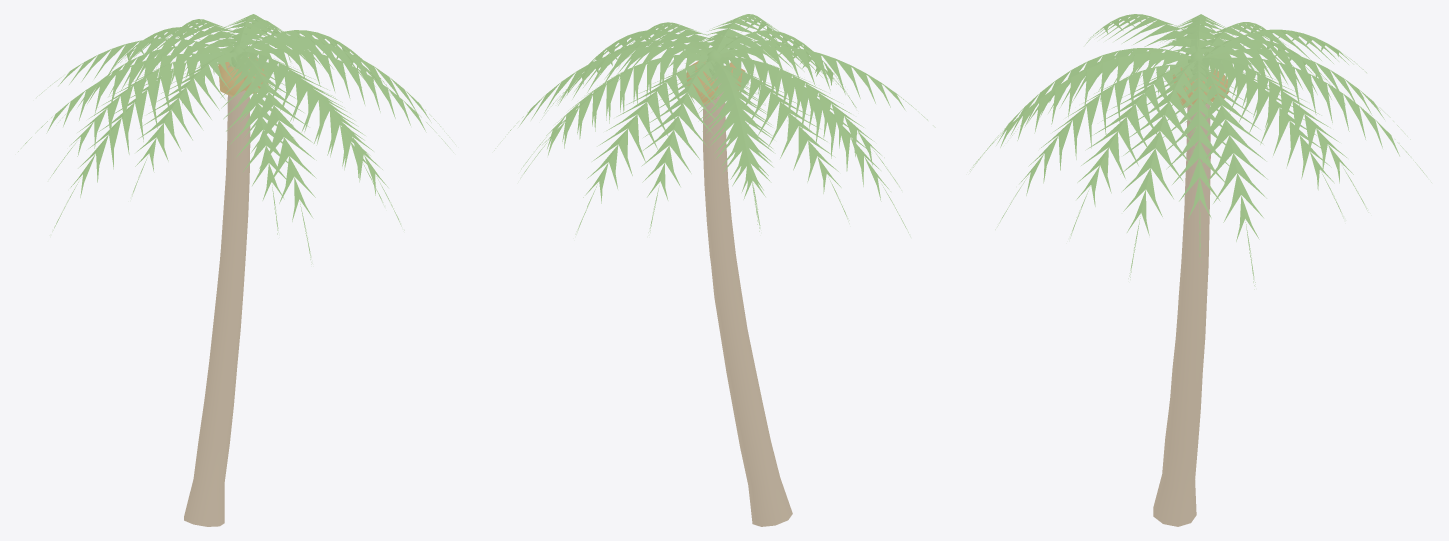
Rendered from Blender_Palm_1.glb.
3 renders of one model, left to right at view 1: azimuth 30°, elevation 25°; view 2: azimuth 150°, elevation 25°; view 3: azimuth 270°, elevation 25°, orthographic. The views are drawn at different scales.
Parts seen in each view (by area): view 1: Blender_Palm_1; view 2: Blender_Palm_1; view 3: Blender_Palm_1.
Boxes of the visible parts, x1,y1,x2,y2 form: Blender_Palm_1: [18, 14, 455, 526]; Blender_Palm_1: [494, 14, 935, 526]; Blender_Palm_1: [970, 14, 1431, 526].
Size of the model in its own units: 13.06 by 14.95 by 12.89.
